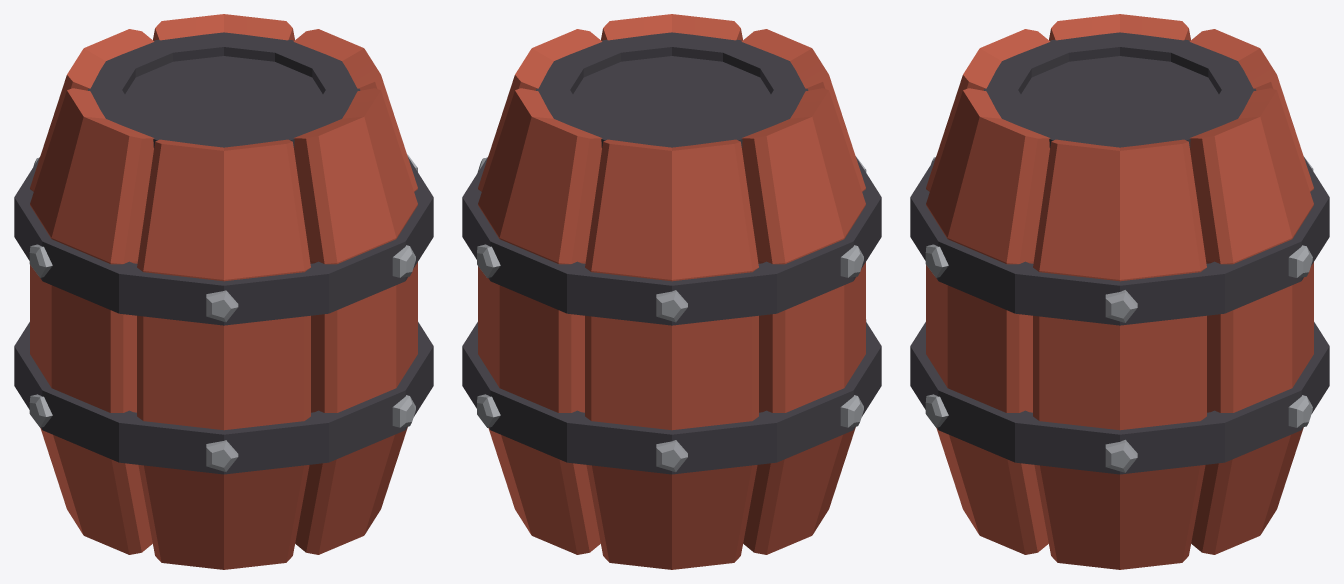
Rendered from urp 8.fbx.
The picture shows the model from 3 angles, left to right: view 1: azimuth 30°, elevation 25°; view 2: azimuth 150°, elevation 25°; view 3: azimuth 270°, elevation 25°; orthographic projection.
Parts seen in each view (by area): view 1: urp 8; view 2: urp 8; view 3: urp 8.
Boxes of the visible parts, x1=… form: urp 8: x1=14, y1=14, x2=433, y2=569; urp 8: x1=462, y1=14, x2=881, y2=569; urp 8: x1=910, y1=14, x2=1329, y2=569.
Bounding box in the file's own units: 69.11 × 73.21 × 66.4.
